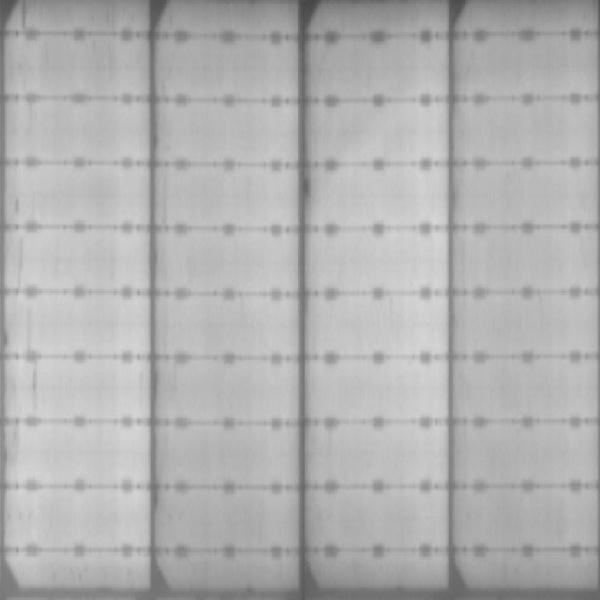scratch: (18, 1, 33, 31)
